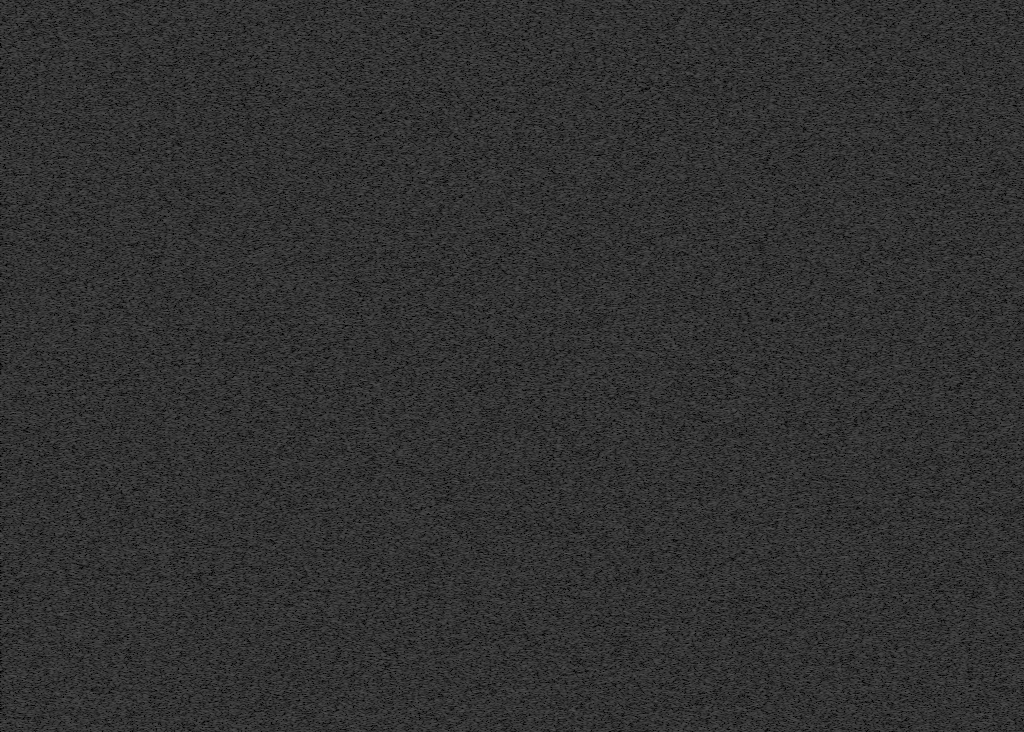wv_cw: (858, 0, 881, 732)
wv_lsb: (242, 6, 249, 350), (242, 381, 248, 694), (177, 51, 183, 288), (178, 462, 183, 732), (108, 474, 114, 604), (108, 142, 114, 262), (176, 289, 183, 376), (108, 375, 114, 473), (108, 605, 114, 653), (109, 654, 114, 703), (178, 402, 182, 446), (109, 284, 114, 317), (243, 351, 248, 380), (177, 377, 183, 401), (109, 704, 114, 732), (178, 5, 183, 29), (109, 9, 114, 30), (243, 711, 248, 732), (178, 30, 183, 50), (109, 354, 114, 374), (109, 318, 114, 338), (109, 264, 114, 283), (243, 695, 248, 710), (110, 59, 114, 76), (110, 82, 114, 96), (110, 39, 114, 53), (178, 447, 182, 461), (110, 128, 113, 141), (110, 112, 114, 119), (109, 339, 113, 346), (109, 347, 114, 352), (110, 120, 113, 127), (110, 107, 114, 111), (110, 100, 113, 105), (110, 77, 113, 81), (110, 54, 113, 58), (110, 35, 113, 38), (110, 31, 113, 34)
wv_usb: (942, 618, 948, 688), (942, 516, 948, 574), (942, 94, 948, 141), (943, 327, 948, 353), (943, 412, 948, 434), (943, 18, 948, 35), (943, 163, 947, 182), (943, 302, 948, 314), (943, 5, 948, 17), (943, 211, 947, 224), (942, 724, 948, 732), (943, 354, 947, 366), (943, 225, 947, 237), (943, 446, 947, 454), (943, 315, 948, 320), (943, 439, 947, 445), (943, 238, 947, 244), (943, 204, 947, 210), (943, 156, 947, 162), (943, 143, 947, 149), (943, 367, 947, 372), (943, 321, 947, 326), (943, 150, 947, 155), (943, 712, 947, 716), (943, 707, 947, 711), (943, 690, 947, 694), (943, 435, 948, 438), (944, 61, 947, 66), (944, 701, 947, 705)
wv_wbfm: (447, 0, 551, 732), (536, 483, 552, 493), (537, 33, 555, 37), (539, 153, 552, 157), (540, 94, 552, 98), (542, 411, 553, 414), (543, 393, 554, 396), (446, 179, 457, 182)
